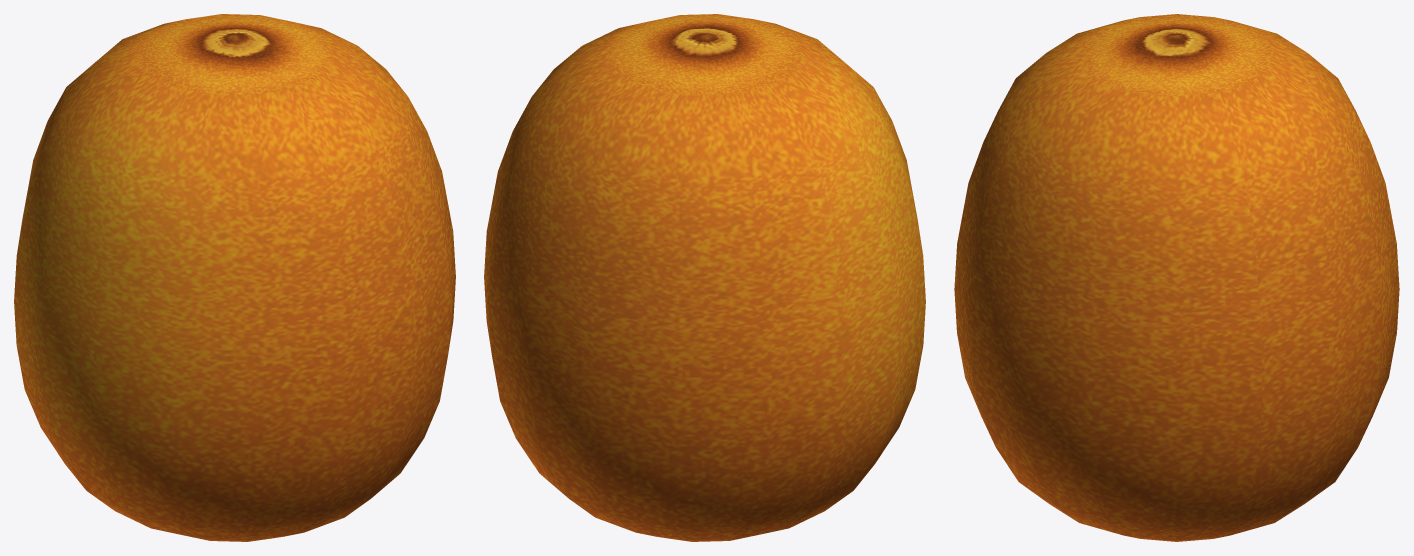
Rendered from Kiwi_Yellow_Whole.fbx.
3 renders of one model, left to right at view 1: azimuth 30°, elevation 25°; view 2: azimuth 150°, elevation 25°; view 3: azimuth 270°, elevation 25°, orthographic.
Parts seen in each view (by area): view 1: Kiwi_Yellow_Whole; view 2: Kiwi_Yellow_Whole; view 3: Kiwi_Yellow_Whole.
Boxes of the visible parts, box(x1,y1,x2,y2) form: Kiwi_Yellow_Whole: box(14, 14, 455, 541); Kiwi_Yellow_Whole: box(484, 14, 925, 541); Kiwi_Yellow_Whole: box(954, 14, 1399, 541).
Size of the model in its own units: 26.59 by 31.68 by 26.59.
